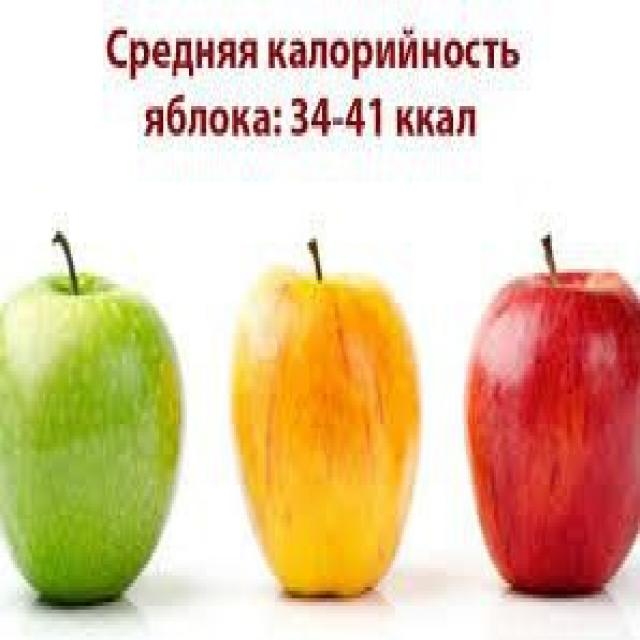fresh_apple: (231, 271, 424, 600), (464, 240, 640, 592), (1, 275, 184, 604)
